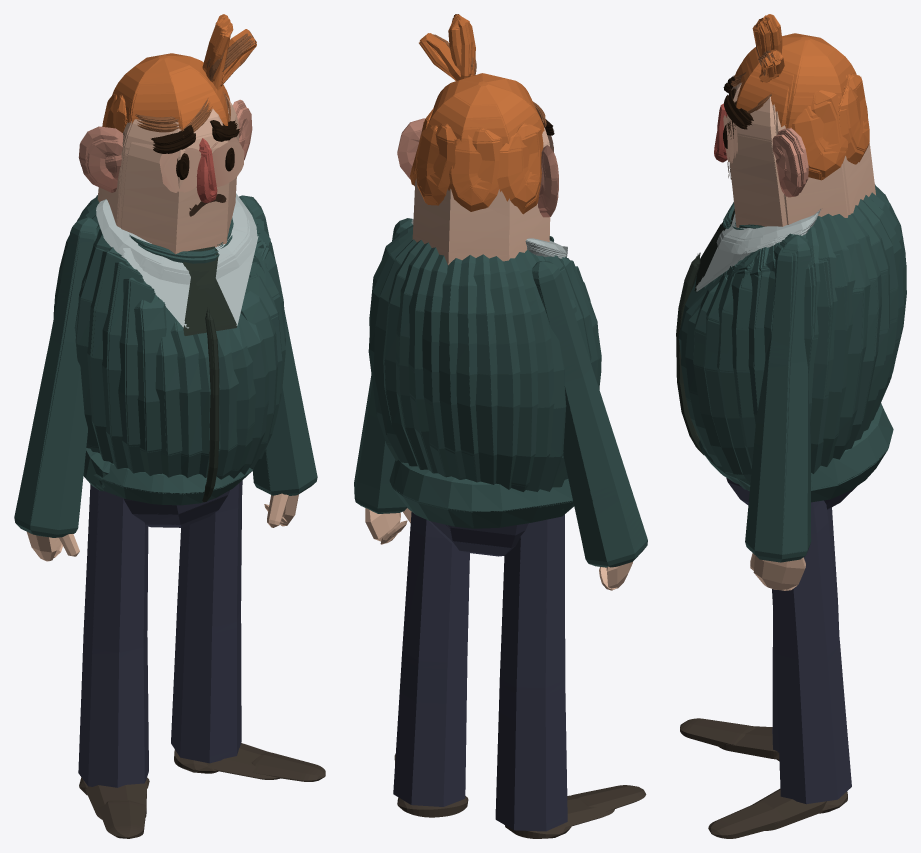
Rendered from Dadidle.fbx.
The picture shows the model from 3 angles, left to right: view 1: azimuth 30°, elevation 25°; view 2: azimuth 150°, elevation 25°; view 3: azimuth 270°, elevation 25°; orthographic projection. The views are drawn at different scales.
Visible parts, largest first — view 1: Dad; view 2: Dad; view 3: Dad.
Part boxes in pixels (x1=…): Dad: x1=14, y1=14, x2=325, y2=838; Dad: x1=354, y1=14, x2=647, y2=838; Dad: x1=676, y1=14, x2=906, y2=838.
Size of the model in its own units: 1.12 by 2.86 by 0.7571.
